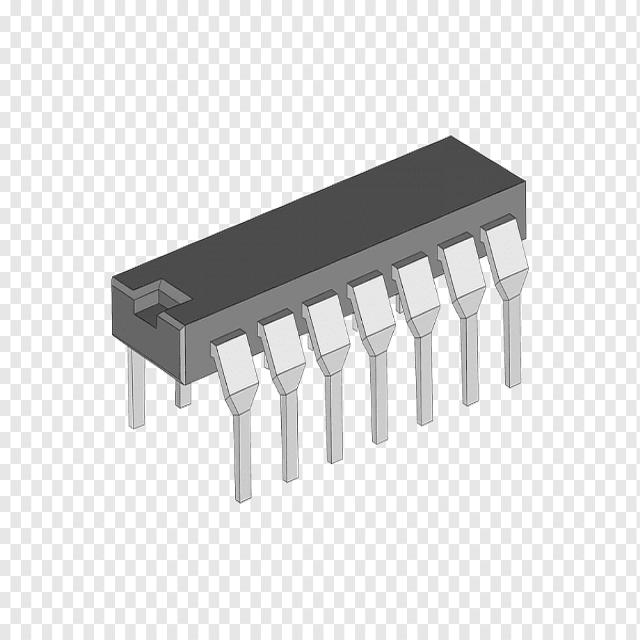IC: (109, 134, 538, 458)
